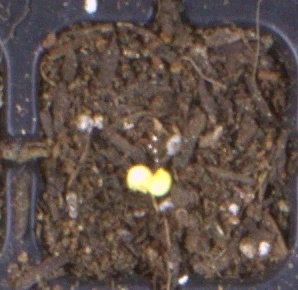chilli seed: (125, 164, 152, 194), (146, 167, 173, 197)
